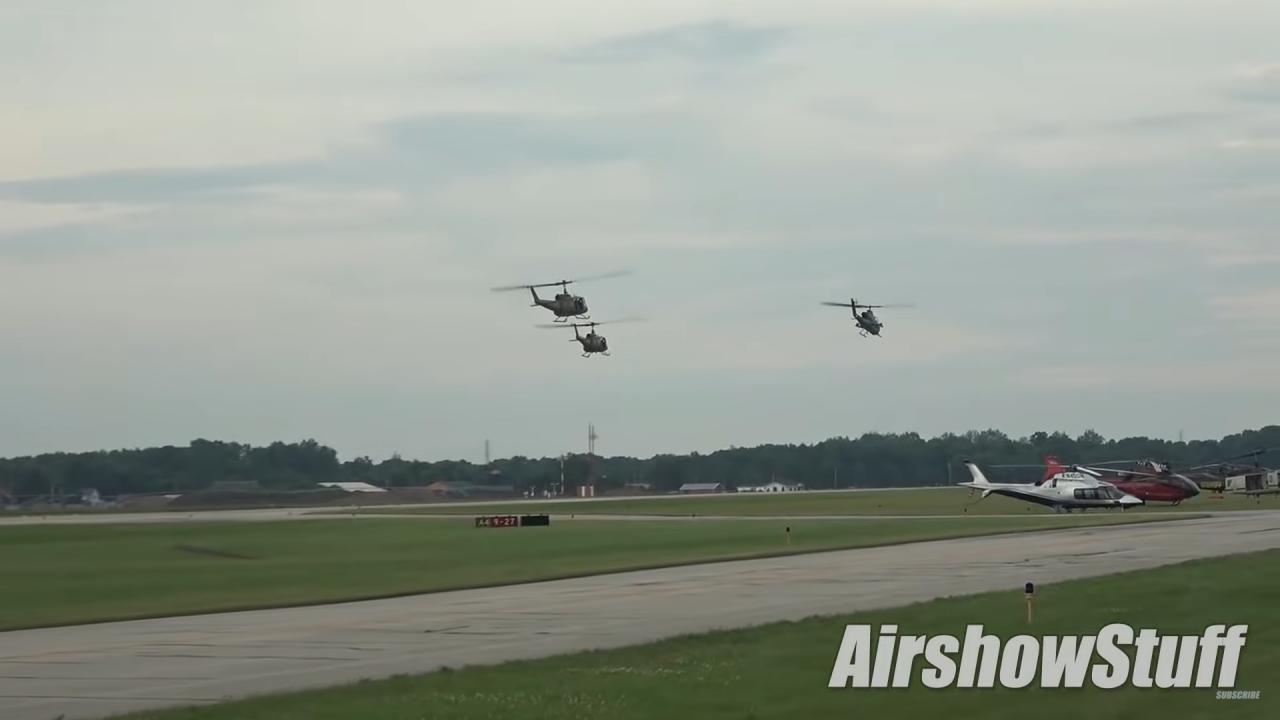Helicopter: (483, 254, 648, 337), (808, 276, 936, 357), (530, 312, 659, 375)
